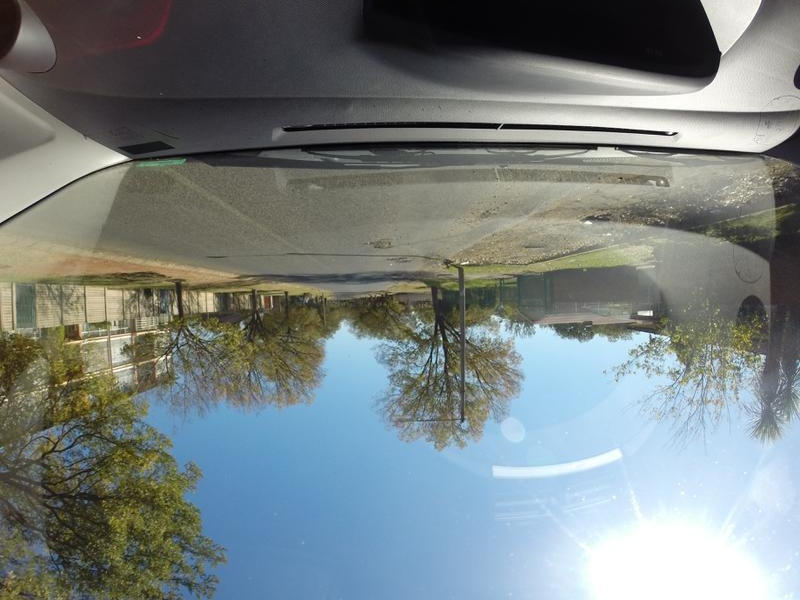pothole: (368, 236, 395, 258), (382, 256, 409, 266)
